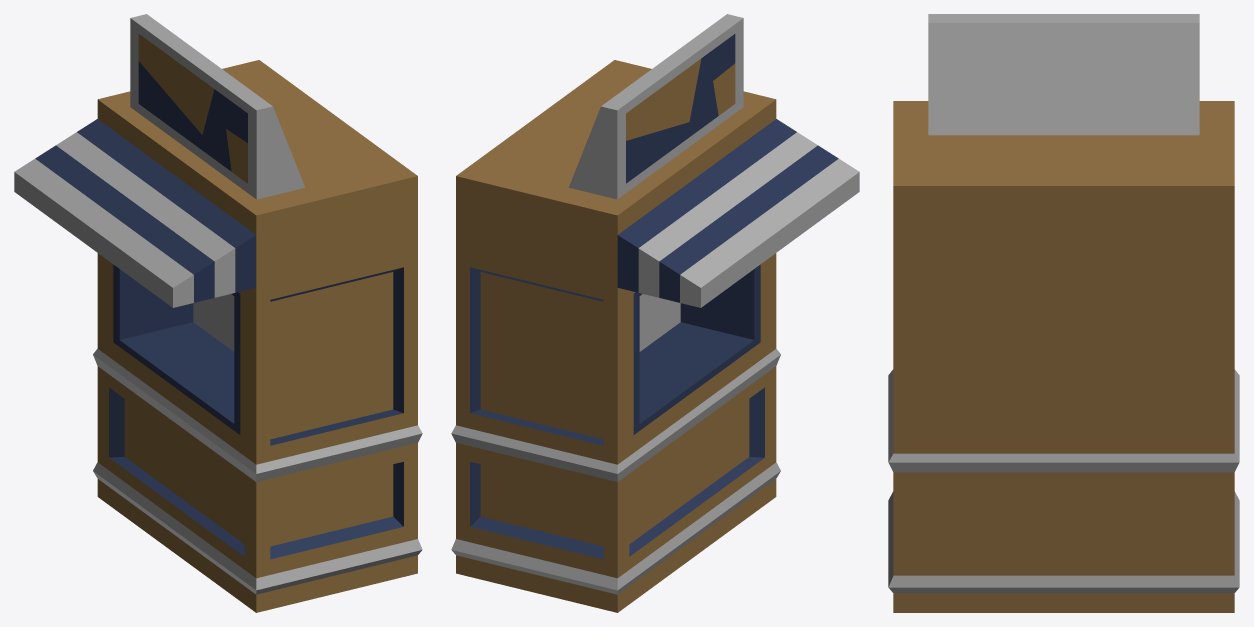
File: NewstandModel02.fbx
3 renders of one model, left to right at view 1: azimuth 30°, elevation 25°; view 2: azimuth 150°, elevation 25°; view 3: azimuth 270°, elevation 25°, orthographic. The views are drawn at different scales.
Visible parts, largest first — view 1: Newstand02; view 2: Newstand02; view 3: Newstand02.
Part boxes in pixels (box(x1,y1,x2,y2)): Newstand02: box(14, 14, 422, 612); Newstand02: box(451, 14, 859, 612); Newstand02: box(888, 14, 1239, 612).
Size of the model in its own units: 207 by 389 by 237.
